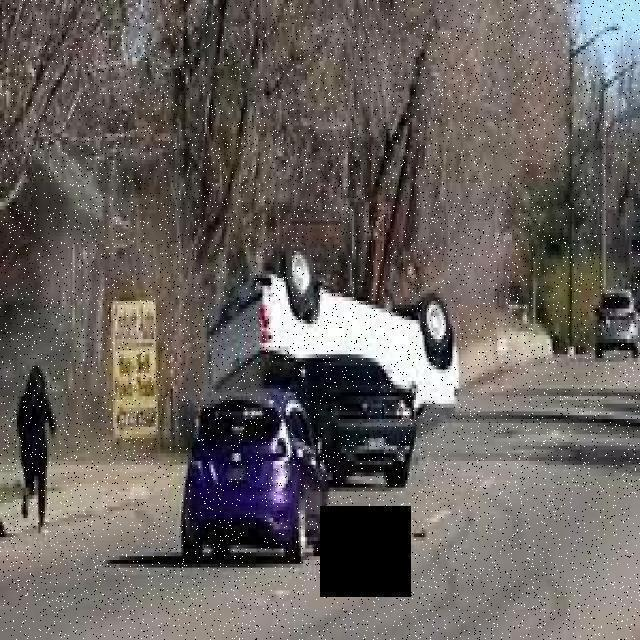accident: (200, 236, 463, 480)
